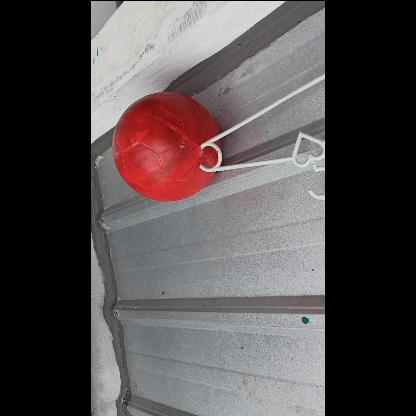red_ball: (112, 92, 222, 202)
